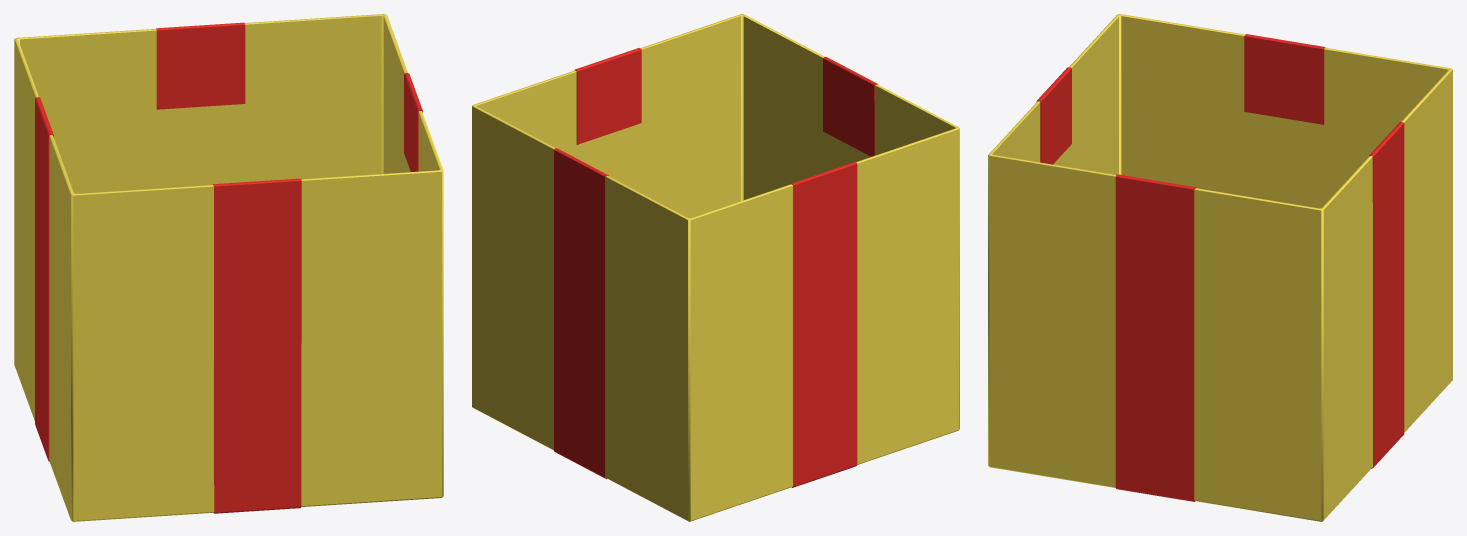
File: Present1.fbx
3 renders of one model, left to right at view 1: azimuth 30°, elevation 25°; view 2: azimuth 150°, elevation 25°; view 3: azimuth 270°, elevation 25°, orthographic. The views are drawn at different scales.
Visible parts, largest first — view 1: Present1; view 2: Present1; view 3: Present1.
Boxes of the visible parts, box(x1,y1,x2,y2) form: Present1: box(14, 14, 443, 521); Present1: box(472, 14, 959, 521); Present1: box(988, 14, 1452, 521).
Size of the model in its own units: 0.5116 by 0.3818 by 0.5116.
